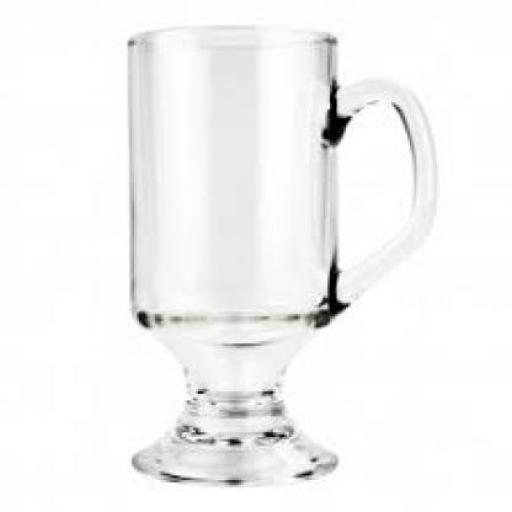glass: (122, 24, 432, 482)
